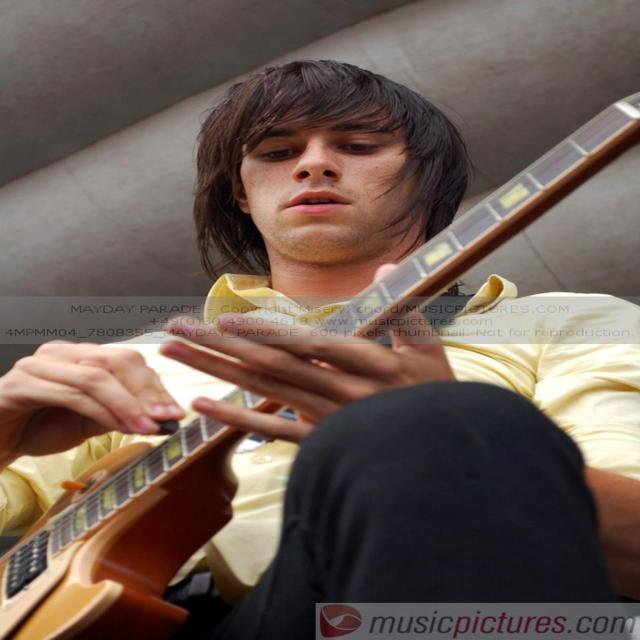Face: (222, 96, 477, 277)
